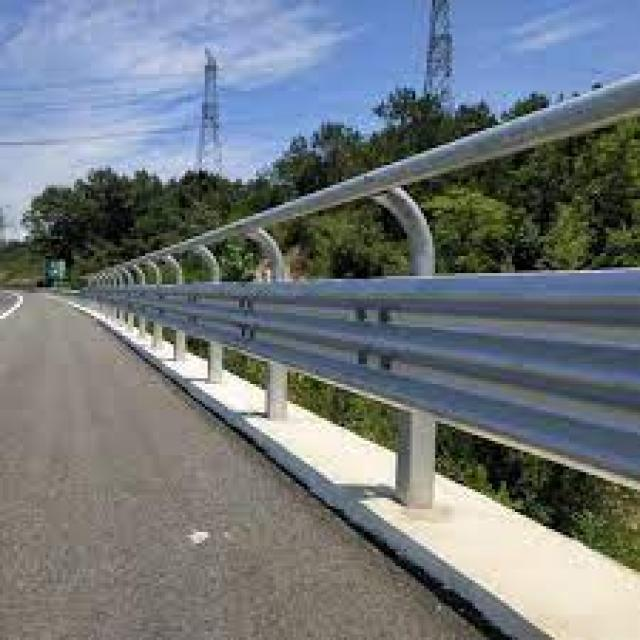Guard rail: (84, 269, 640, 478)
